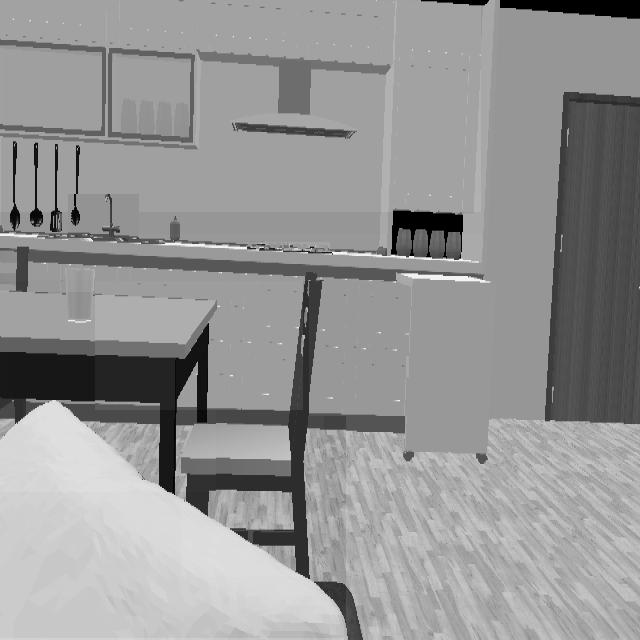cabinet: (0, 0, 481, 212), (95, 267, 303, 410), (310, 279, 407, 416)
chair: (181, 273, 324, 577)
countertop: (0, 234, 483, 281)
pillow: (0, 403, 346, 637)
sink: (69, 195, 122, 239)
stove: (248, 242, 330, 252)
table: (0, 293, 216, 492)
